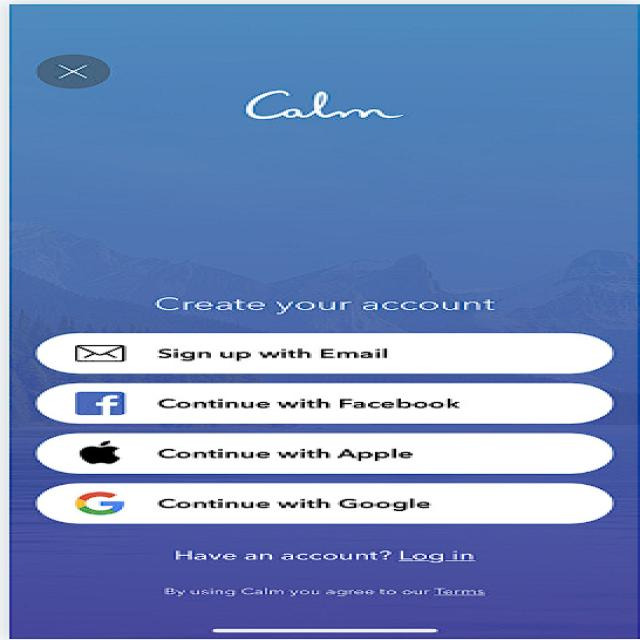button: (36, 479, 626, 532), (33, 329, 617, 379), (36, 378, 619, 428), (27, 429, 628, 475)
spacer: (24, 126, 622, 276)
text: (168, 540, 520, 574), (150, 288, 507, 318), (150, 583, 509, 605)
